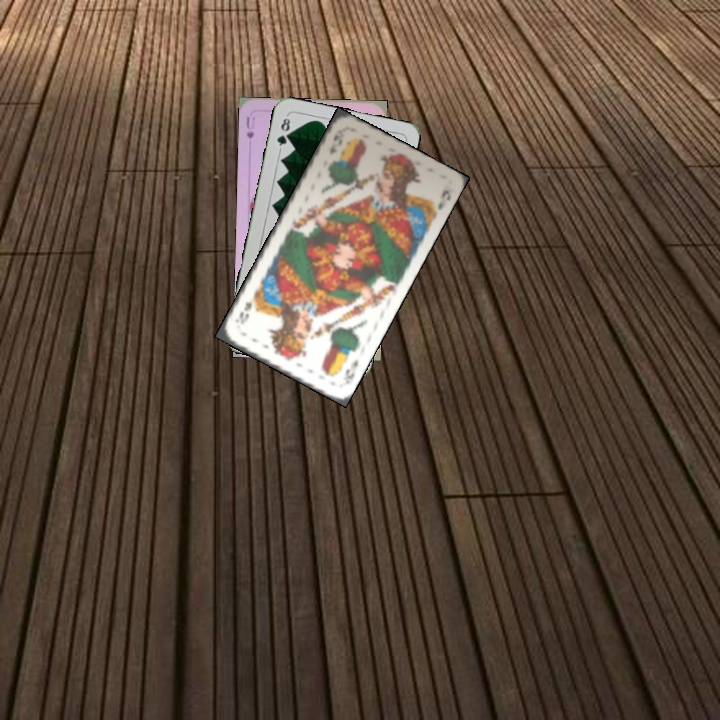EK: (339, 355, 361, 388), (325, 131, 346, 157)
G8: (273, 112, 293, 152)
SU: (242, 113, 257, 141)
